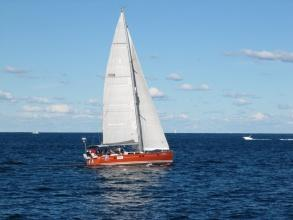fanchuan: (84, 9, 176, 170)
